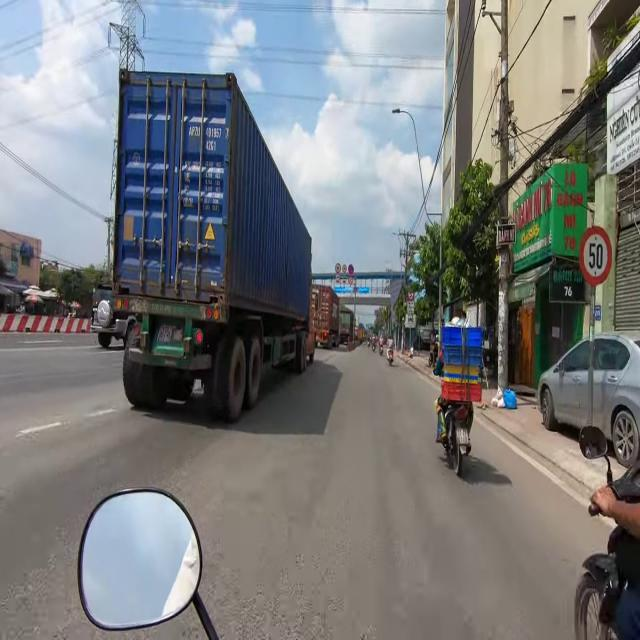bien_trang: (454, 424, 473, 452)
